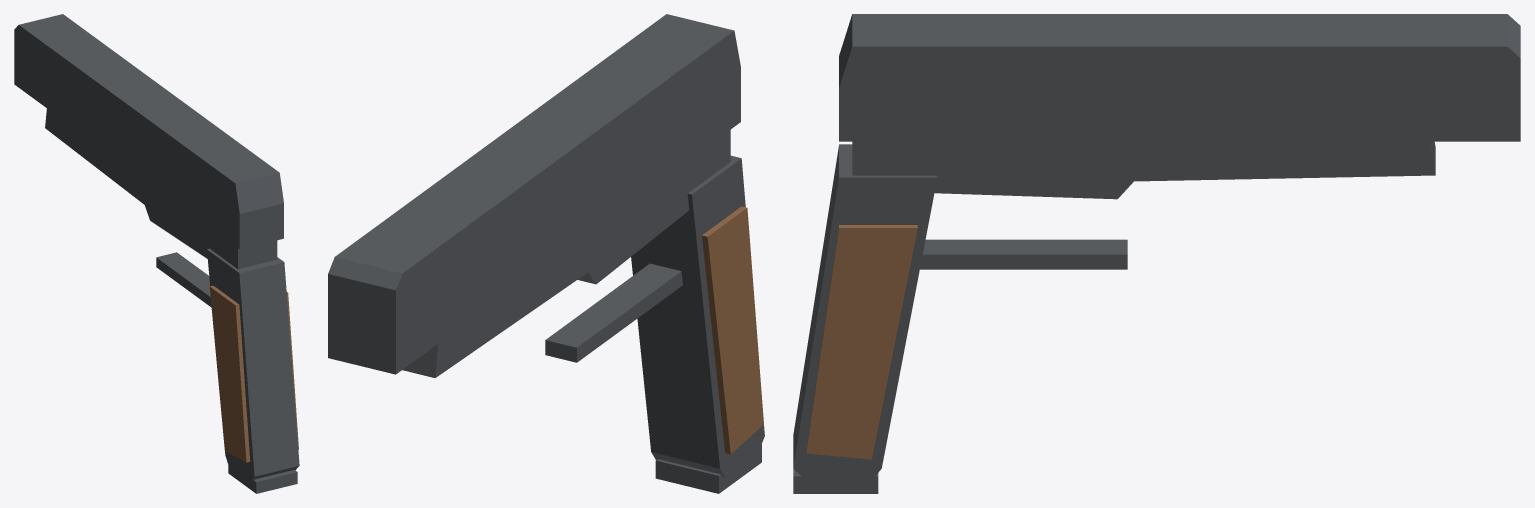
3 views of the same model, side by side, from view 1: azimuth 30°, elevation 25°; view 2: azimuth 150°, elevation 25°; view 3: azimuth 270°, elevation 25° (orthographic). The views are drawn at different scales.
Parts seen in each view (by area): view 1: slide, body, magazine; view 2: slide, body, magazine; view 3: slide, body, magazine.
Part boxes in pixels (<box>): slide: <box>14,14,283,249</box>; body: <box>45,108,299,481</box>; magazine: <box>228,465,297,493</box>; slide: <box>328,14,740,374</box>; body: <box>402,130,764,476</box>; magazine: <box>655,444,761,493</box>; slide: <box>839,14,1520,141</box>; body: <box>793,141,1435,480</box>; magazine: <box>793,469,878,493</box>.
Bounding box in the file's own units: 0.028 × 0.151 × 0.222.
